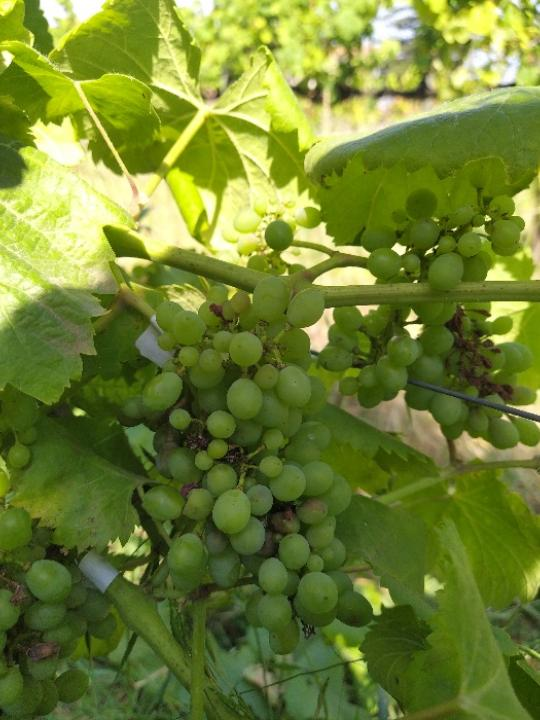grape: (114, 275, 374, 659), (316, 163, 540, 451)
